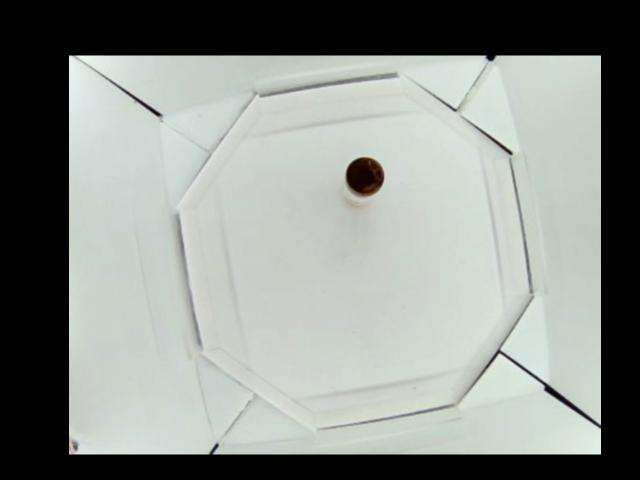Medicine: (342, 156, 385, 207)
